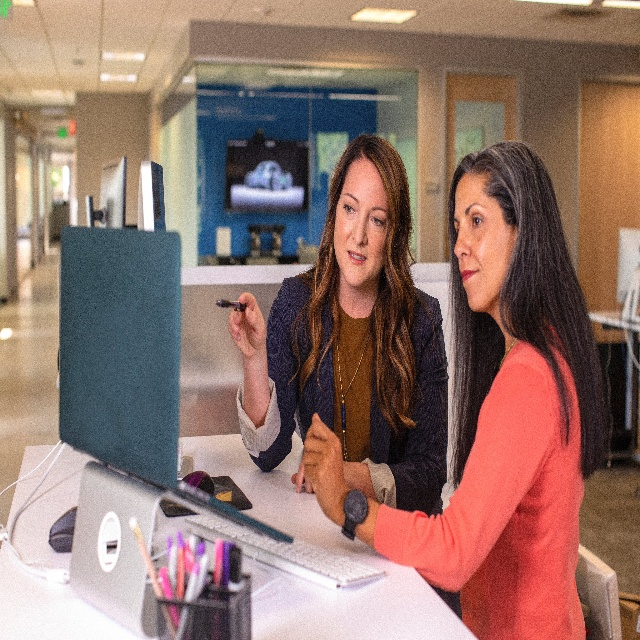Sin_guantes: (303, 412, 349, 523), (228, 292, 268, 358), (290, 456, 313, 494)
